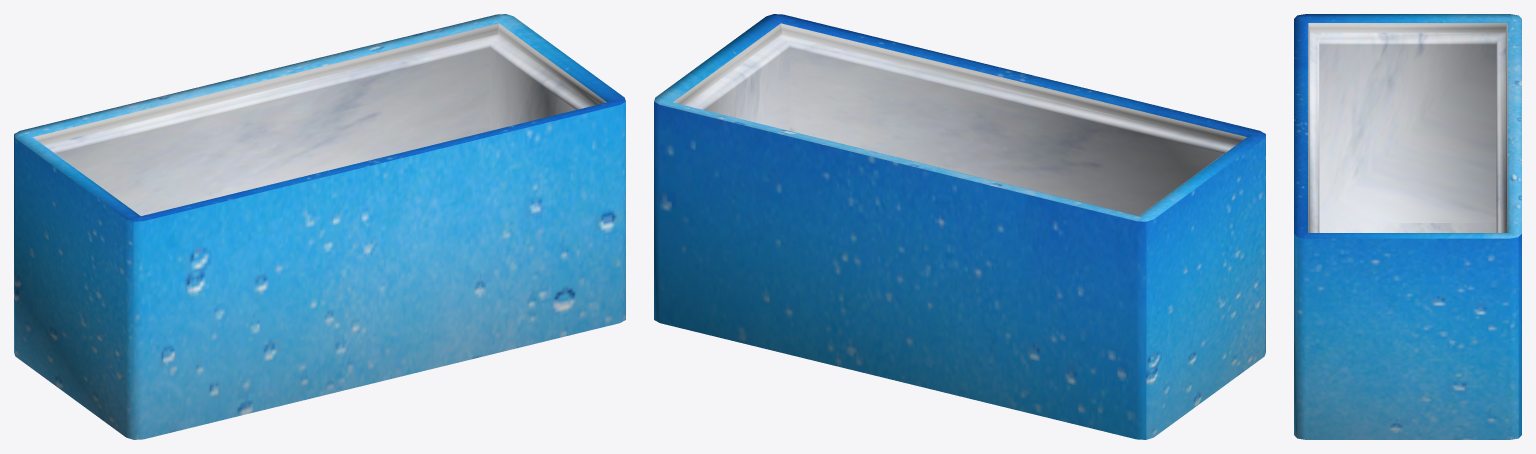
Rendered from FryseDisk.glb.
3 renders of one model, left to right at view 1: azimuth 30°, elevation 25°; view 2: azimuth 150°, elevation 25°; view 3: azimuth 270°, elevation 25°, orthographic. The views are drawn at different scales.
Visible parts, largest first — view 1: Cube; view 2: Cube; view 3: Cube.
Boxes of the visible parts, x1,y1,x2,y2 form: Cube: (14,14,625,439); Cube: (654,14,1265,439); Cube: (1294,14,1521,439).
Bounding box in the file's own units: 21.5 × 8.99 × 9.22.
Materials: 1 (1 with a texture image).
